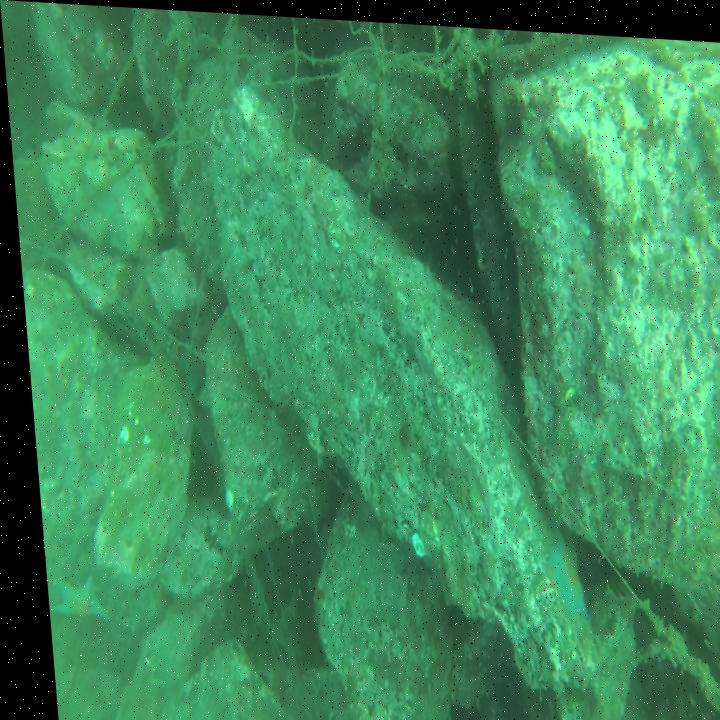starfish: (530, 517, 583, 622), (166, 328, 203, 393)
